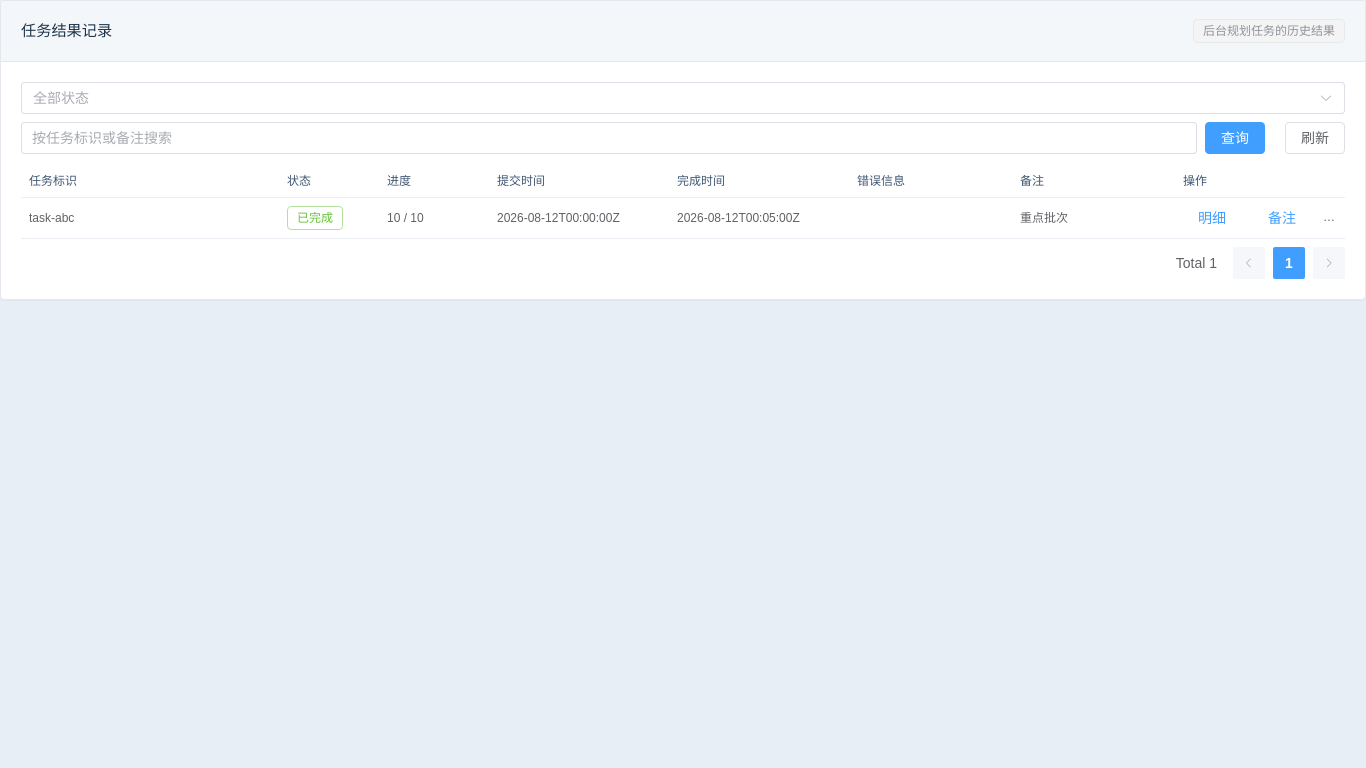
it: TaskResultRecordsPanel › opens the detail drawer with formatted request and result JSON
Click the button with test id "open-task-result-detail": (1212, 218) [1183,202,1241,234]
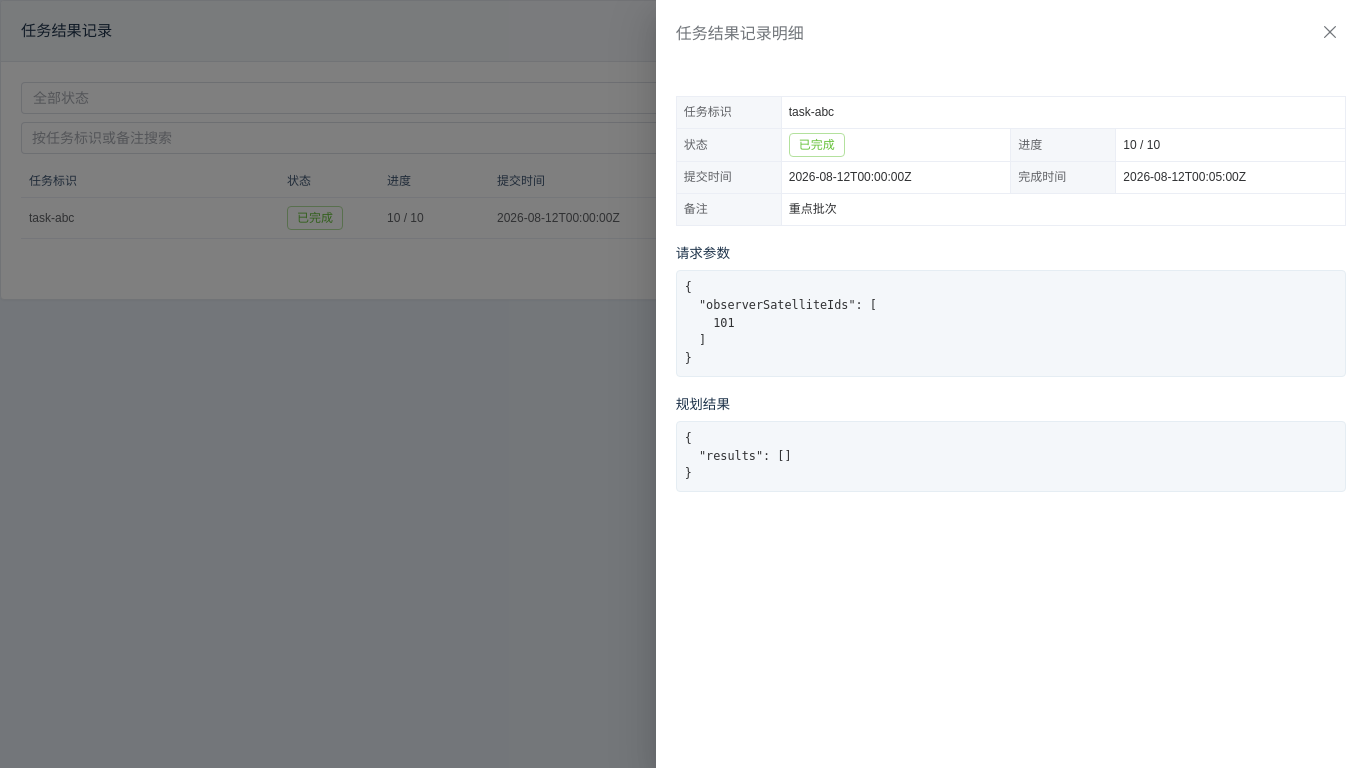
Check: the text with test id "task-result-request-json" shows "\"observerSatelliteIds\": [", box [685,280,877,365]
Check: the text with test id "task-result-result-json" shows "\"results\": []", box [685,431,792,480]
